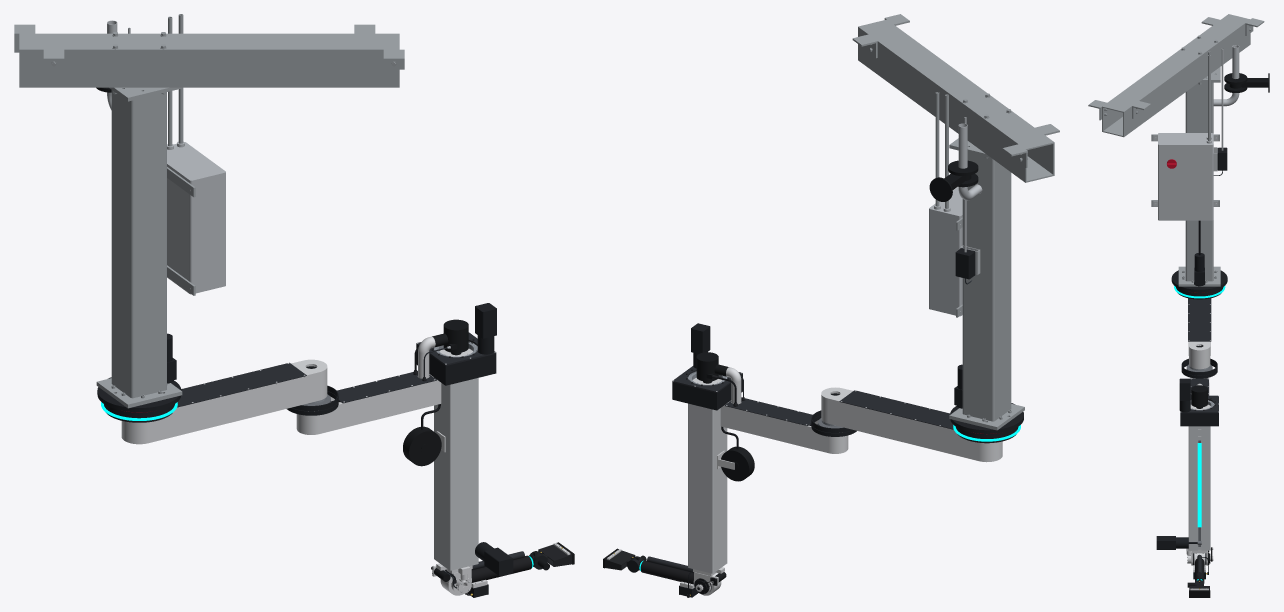
The model's file is clean_arm.near.glb.
3 renders of one model, left to right at view 1: azimuth 30°, elevation 25°; view 2: azimuth 150°, elevation 25°; view 3: azimuth 270°, elevation 25°, orthographic. The views are drawn at different scales.
Parts seen in each view (by area): view 1: CLN-HDR#1, CLN-COL#1, CLN-MS1#1, CLN-ENC#1, CLN-L1#1, CLN-L2#1, CLN-L1C#1, CLN-CRG#1, CLN-BAS#1, CLN-L2C#1, CLN-MCR#1, CLN-SGM#1 (+2 smaller); view 2: CLN-COL#1, CLN-HDR#1, CLN-MS1#1, CLN-L1#1, CLN-ENC#1, CLN-L2#1, CLN-L1C#1, CLN-VGV#1, CLN-CRG#1, CLN-BAS#1, CLN-L2C#1, CLN-MCR#1 (+3 smaller); view 3: CLN-HDR#1, CLN-ENC#1, CLN-COL#1, CLN-MS1#1, CLN-L1C#1, CLN-BAS#1, CLN-VGV#1, CLN-L1#1, CLN-CRG#1, CLN-SGM#2, CLN-MSL#1, CLN-SGM#1 (+7 smaller).
Boxes of the visible parts, x1,y1,x2,y2 form: CLN-HDR#1: [19, 33, 399, 87]; CLN-COL#1: [96, 87, 182, 408]; CLN-MS1#1: [434, 378, 478, 570]; CLN-ENC#1: [167, 141, 225, 294]; CLN-L1#1: [121, 359, 327, 444]; CLN-L2#1: [296, 376, 441, 434]; CLN-L1C#1: [177, 362, 306, 407]; CLN-CRG#1: [416, 345, 496, 385]; CLN-BAS#1: [97, 377, 181, 422]; CLN-L2C#1: [337, 371, 436, 403]; CLN-MCR#1: [403, 426, 441, 466]; CLN-SGM#1: [475, 303, 496, 354]; CLN-COL#1: [949, 138, 1024, 430]; CLN-HDR#1: [858, 19, 1054, 182]; CLN-MS1#1: [688, 403, 727, 573]; CLN-L1#1: [821, 387, 1002, 462]; CLN-ENC#1: [929, 187, 962, 316]; CLN-L2#1: [720, 402, 848, 453]; CLN-L1C#1: [839, 390, 953, 429]; CLN-VGV#1: [929, 160, 978, 201]; CLN-CRG#1: [672, 374, 742, 410]; CLN-BAS#1: [950, 403, 1023, 443]; CLN-L2C#1: [724, 397, 812, 425]; CLN-MCR#1: [721, 446, 754, 481]; CLN-HDR#1: [1102, 14, 1250, 137]; CLN-ENC#1: [1153, 133, 1218, 220]; CLN-COL#1: [1178, 67, 1220, 286]; CLN-MS1#1: [1188, 426, 1210, 550]; CLN-L1C#1: [1188, 298, 1211, 341]; CLN-BAS#1: [1171, 270, 1227, 299]; CLN-VGV#1: [1224, 73, 1269, 92]; CLN-L1#1: [1188, 341, 1210, 369]; CLN-CRG#1: [1180, 413, 1218, 426]; CLN-SGM#2: [1156, 536, 1197, 549]; CLN-MSL#1: [1197, 443, 1201, 527]; CLN-SGM#1: [1179, 378, 1190, 412].
Bounding box in the file's own units: 2.9 × 3.39 × 1.3.
